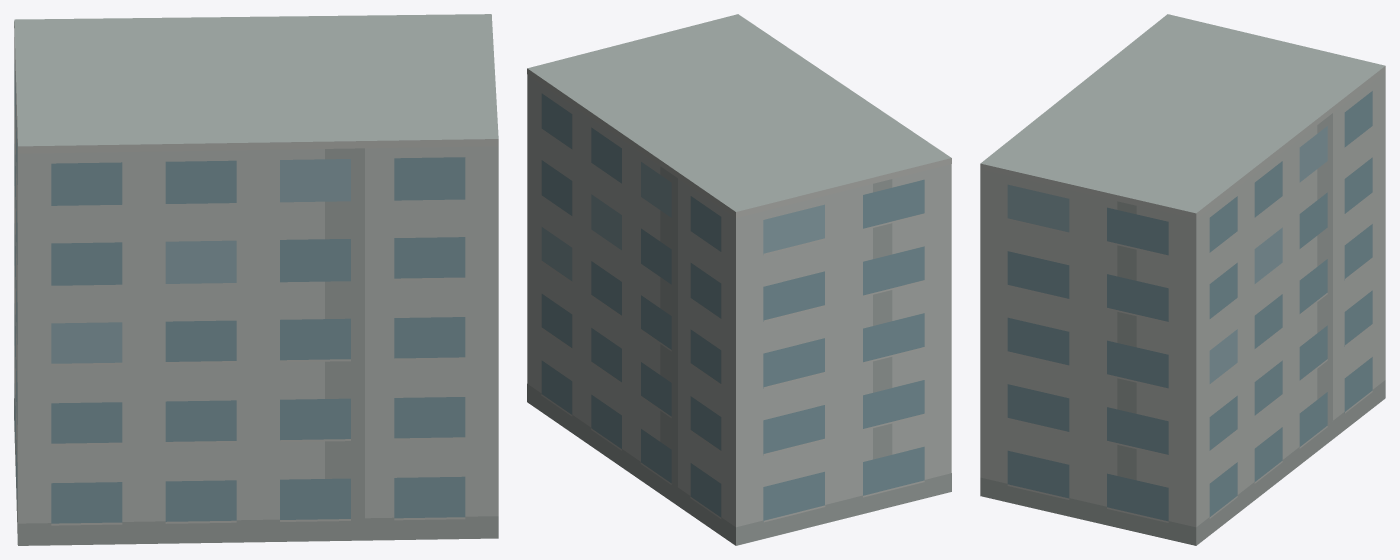
The model's file is survey-upis-32851980.glb.
3 renders of one model, left to right at view 1: azimuth 30°, elevation 25°; view 2: azimuth 150°, elevation 25°; view 3: azimuth 270°, elevation 25°, orthographic. The views are drawn at different scales.
Parts seen in each view (by area): view 1: survey-upis-32851980.tmp; view 2: survey-upis-32851980.tmp; view 3: survey-upis-32851980.tmp.
Boxes of the visible parts, x1,y1,x2,y2 form: survey-upis-32851980.tmp: (14, 14, 498, 545); survey-upis-32851980.tmp: (527, 14, 951, 545); survey-upis-32851980.tmp: (980, 14, 1385, 545).
Size of the model in its own units: 17.05 by 13.25 by 14.65.
